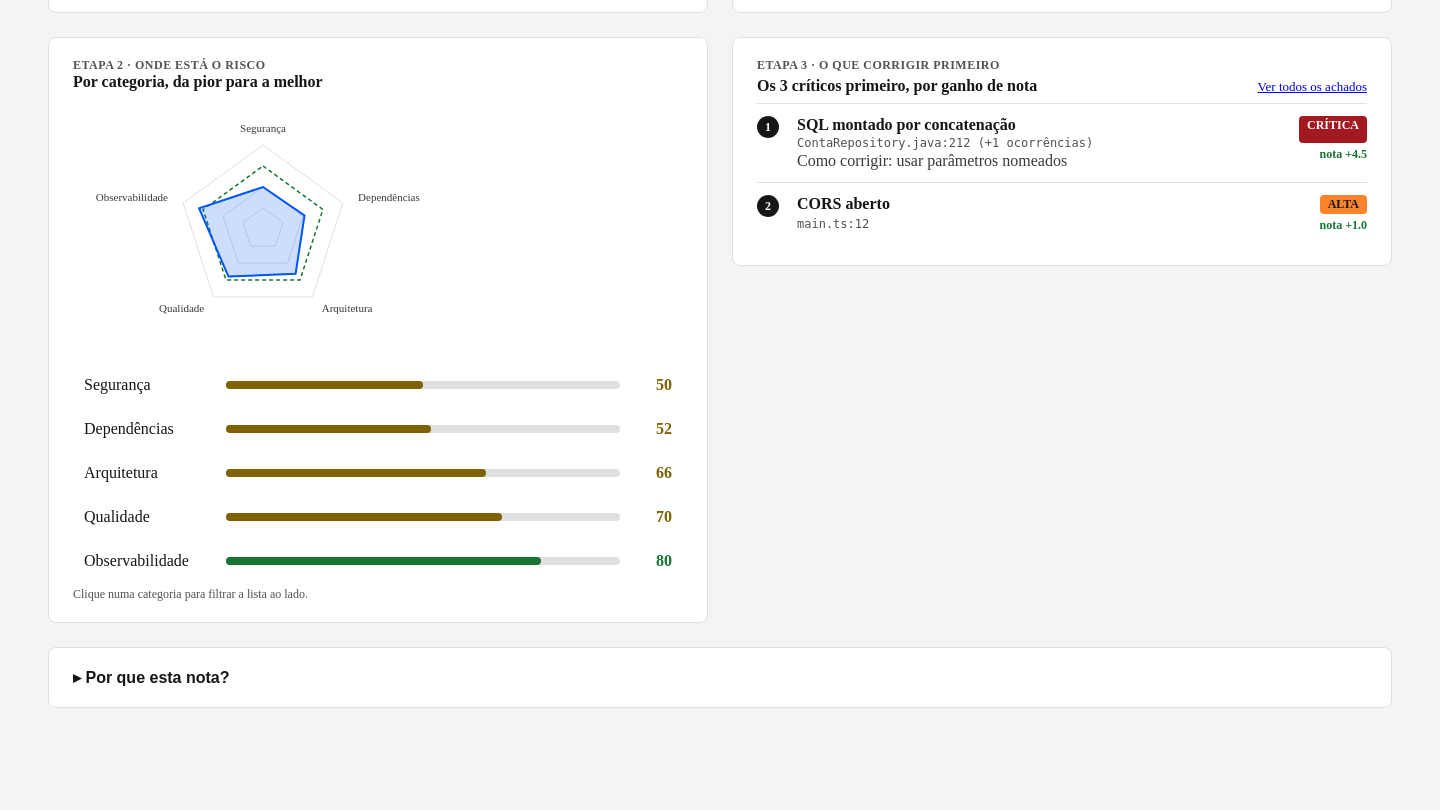
AuditRunPage › concluída mostra veredito, categorias e o que corrigir primeiro
(page scrolled)
Expected: the text "SQL montado por concatenação" is shown, [797, 116, 1016, 133]
Expected: the text "nota +4.5" is shown, [1320, 147, 1367, 170]
// filtrar por categoria mostra só os problemas dela
Click the button "Dependências 52". click: click(378, 429)
box: [73, 411, 683, 447]
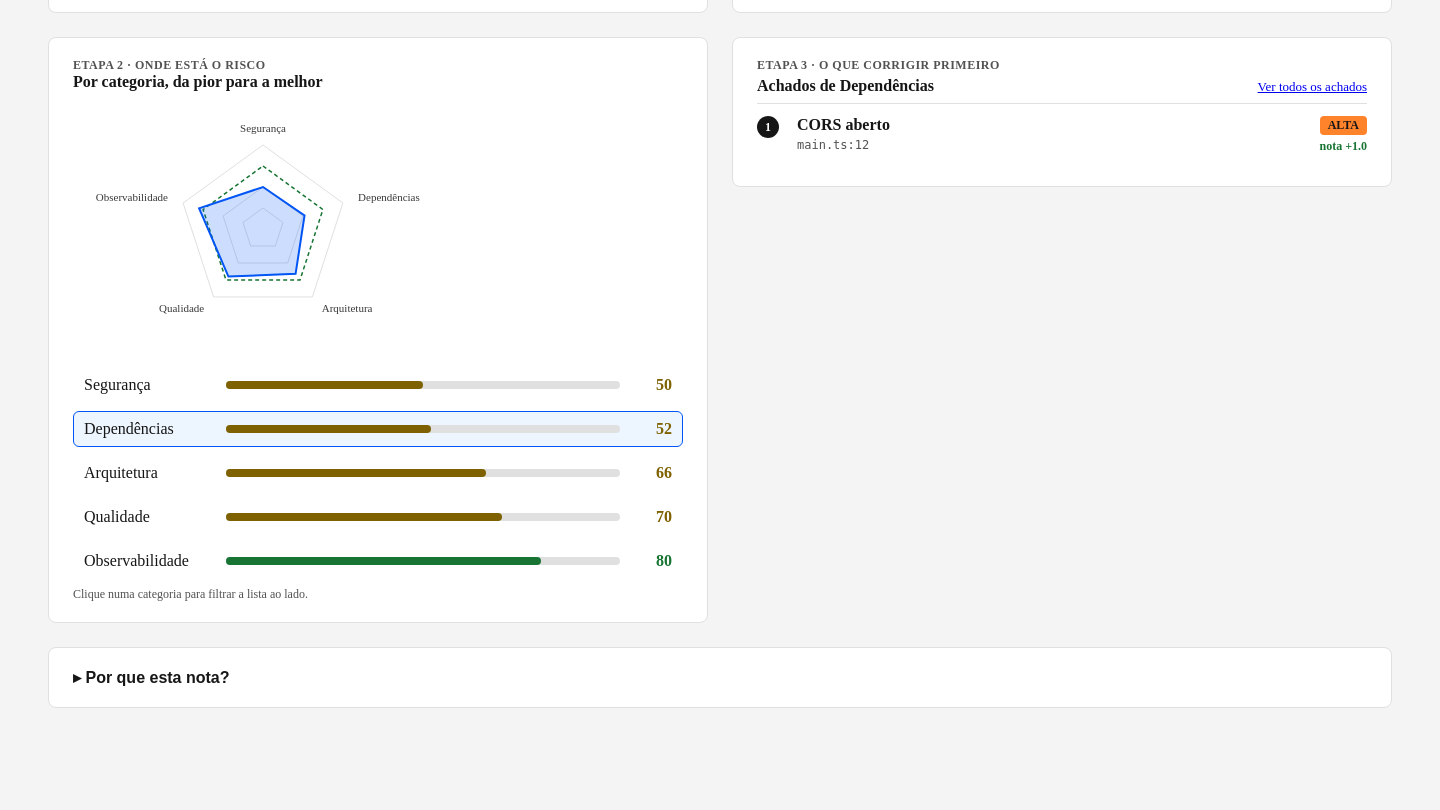
Expected: the text "CORS aberto" is shown, [797, 116, 890, 133]
Now the text "SQL montado por concatenação" is gone
